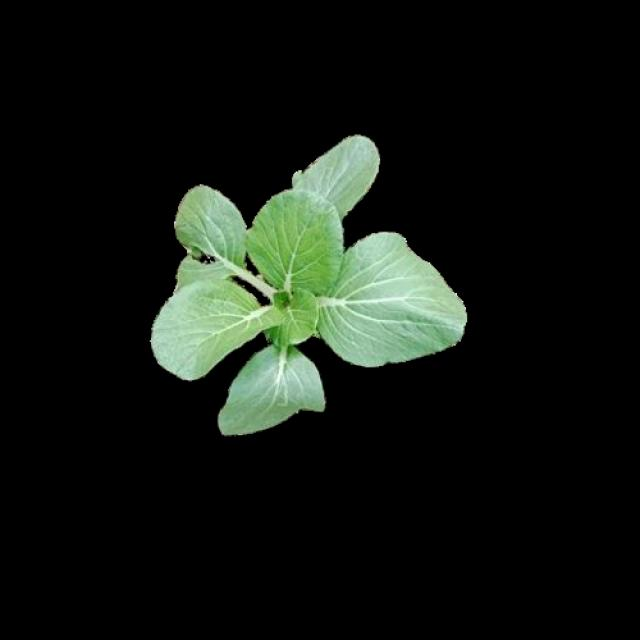not-mature: (147, 132, 467, 432)
unhealthy: (177, 184, 290, 290)
